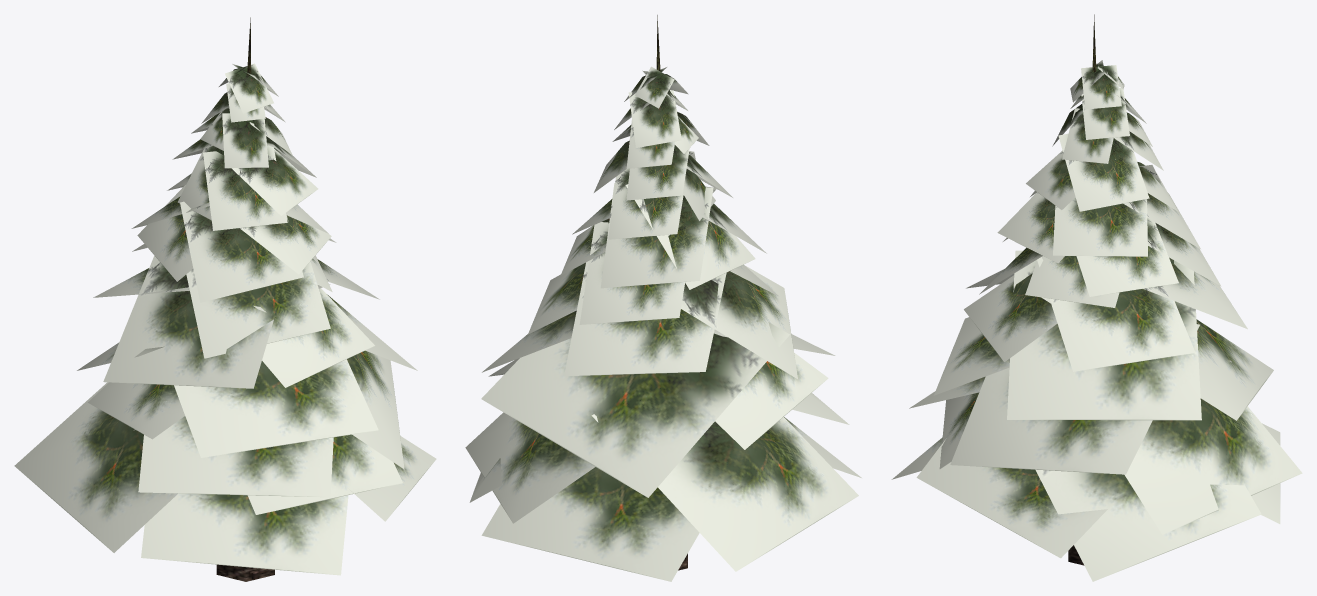
The model's file is tree01.fbx.
The picture shows the model from 3 angles, left to right: view 1: azimuth 30°, elevation 25°; view 2: azimuth 150°, elevation 25°; view 3: azimuth 270°, elevation 25°; orthographic projection. The views are drawn at different scales.
Visible parts, largest first — view 1: tree01; view 2: tree01; view 3: tree01.
Part boxes in pixels (x1,y1,x2,y2): tree01: (14, 17, 436, 581); tree01: (465, 15, 861, 581); tree01: (891, 14, 1302, 581).
Bounding box in the file's own units: 1069 × 1638 × 1126.
